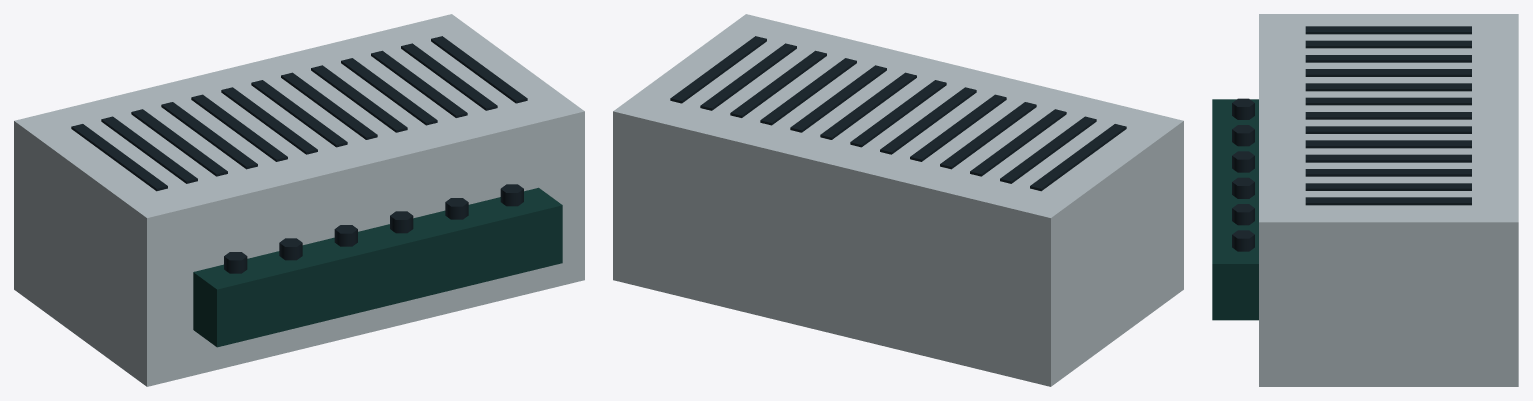
Rendered from supply-low.glb.
3 renders of one model, left to right at view 1: azimuth 30°, elevation 25°; view 2: azimuth 150°, elevation 25°; view 3: azimuth 270°, elevation 25°, orthographic. The views are drawn at different scales.
Visible parts, largest first — view 1: satin-aluminium, pcb-solder-mask, black-anodised; view 2: satin-aluminium, black-anodised; view 3: satin-aluminium, black-anodised, pcb-solder-mask.
Boxes of the visible parts, x1,y1,x2,y2 form: satin-aluminium: (14,14,584,386); pcb-solder-mask: (193,187,562,347); black-anodised: (71,36,527,273); satin-aluminium: (613,14,1183,386); black-anodised: (670,36,1126,191); satin-aluminium: (1259,14,1518,386); black-anodised: (1232,26,1471,251); pcb-solder-mask: (1212,99,1258,320).
Size of the model in its own units: 0.95 by 0.3575 by 0.59.
